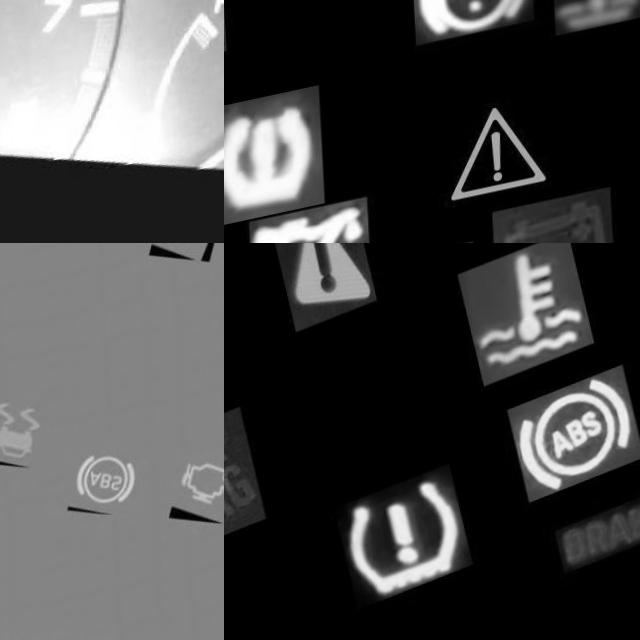Central Warning lamp: (431, 100, 553, 238), (267, 243, 374, 347)
Engine cooling system: (454, 251, 591, 410), (549, 0, 640, 57)
